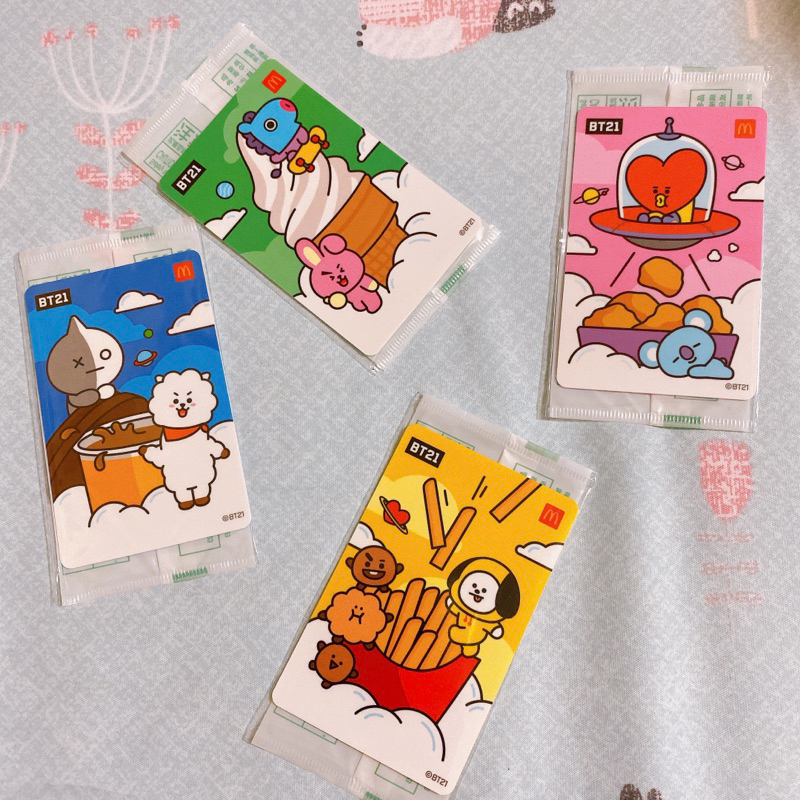card: (561, 105, 760, 398)
